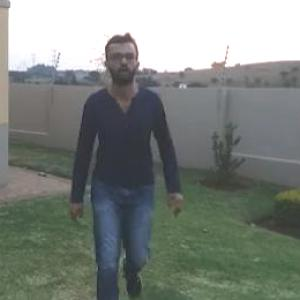follow: (77, 37, 168, 299)
